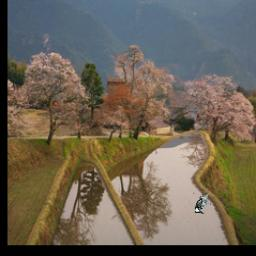Woodpecker: (195, 192, 212, 215)
